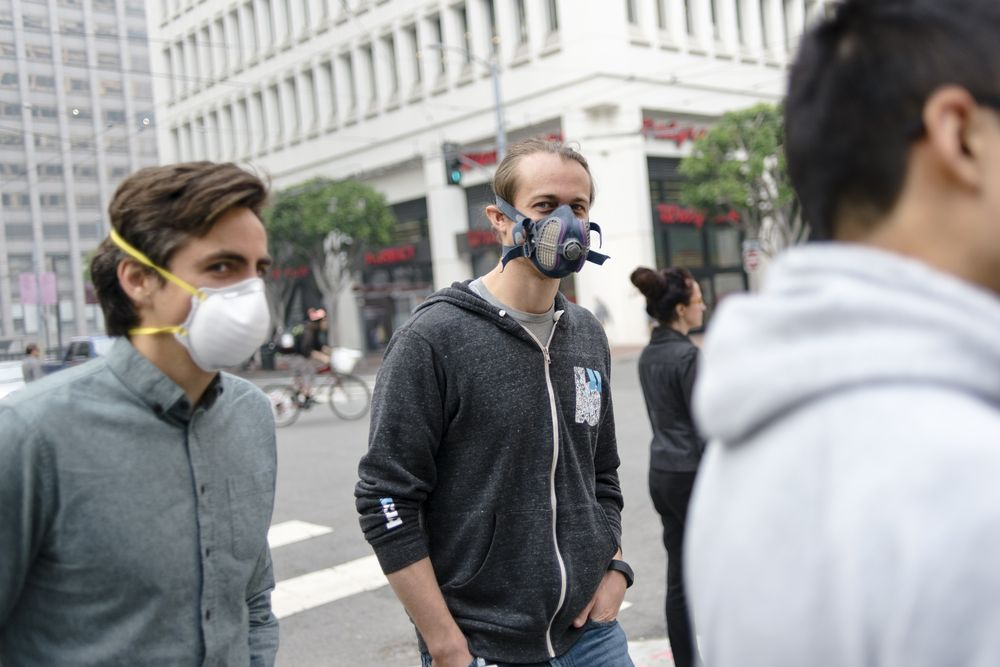homemade: (506, 202, 611, 281)
n95: (176, 270, 278, 376)
